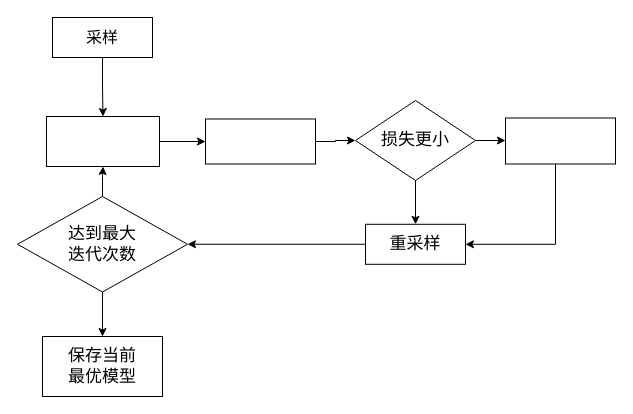
Some shapes in this 633 by 414 pixel diagram are drawn without their labels. Here are the shapes that lost their labels. From the top down, the centre of each, then its label:
At point (103, 141): "计算参数 模型".
At point (260, 141): "模型 检验".
At point (560, 140): "更新 局内点".
